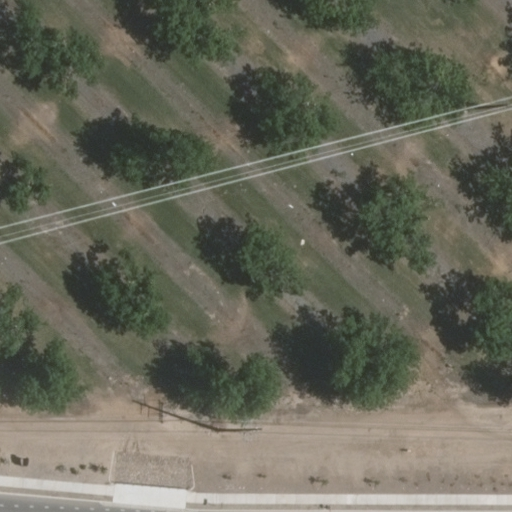DT: (206, 413, 269, 441), (463, 95, 512, 117)
